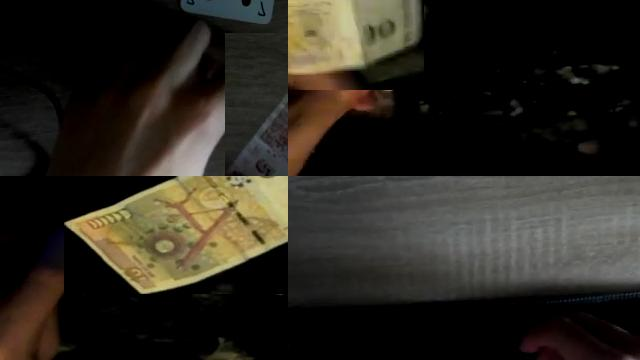10leva: (64, 176, 288, 294), (288, 0, 424, 74)
